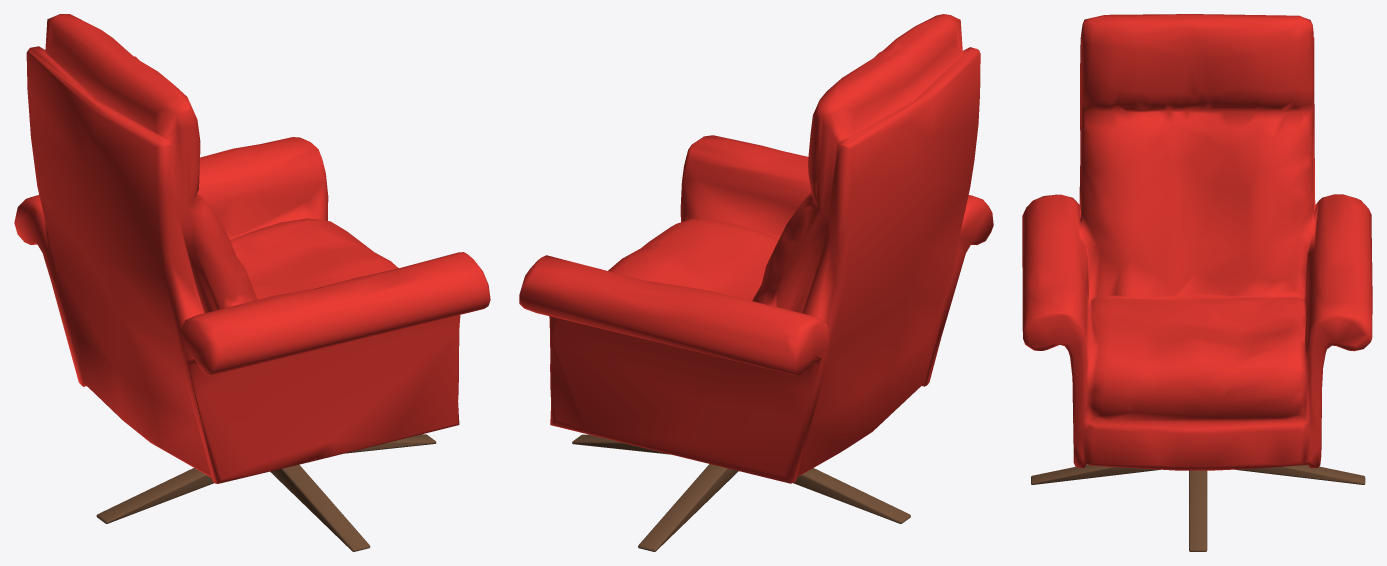
Rendered from Sessel.fbx.
3 views of the same model, side by side, from view 1: azimuth 30°, elevation 25°; view 2: azimuth 150°, elevation 25°; view 3: azimuth 270°, elevation 25° (orthographic). The views are drawn at different scales.
Parts seen in each view (by area): view 1: Sessel; view 2: Sessel; view 3: Sessel.
Boxes of the visible parts, bbox=[...] form: Sessel: bbox=[14, 14, 490, 551]; Sessel: bbox=[519, 14, 993, 551]; Sessel: bbox=[1022, 14, 1372, 551].
Bounding box in the file's own units: 1.05 × 1.33 × 1.05.
